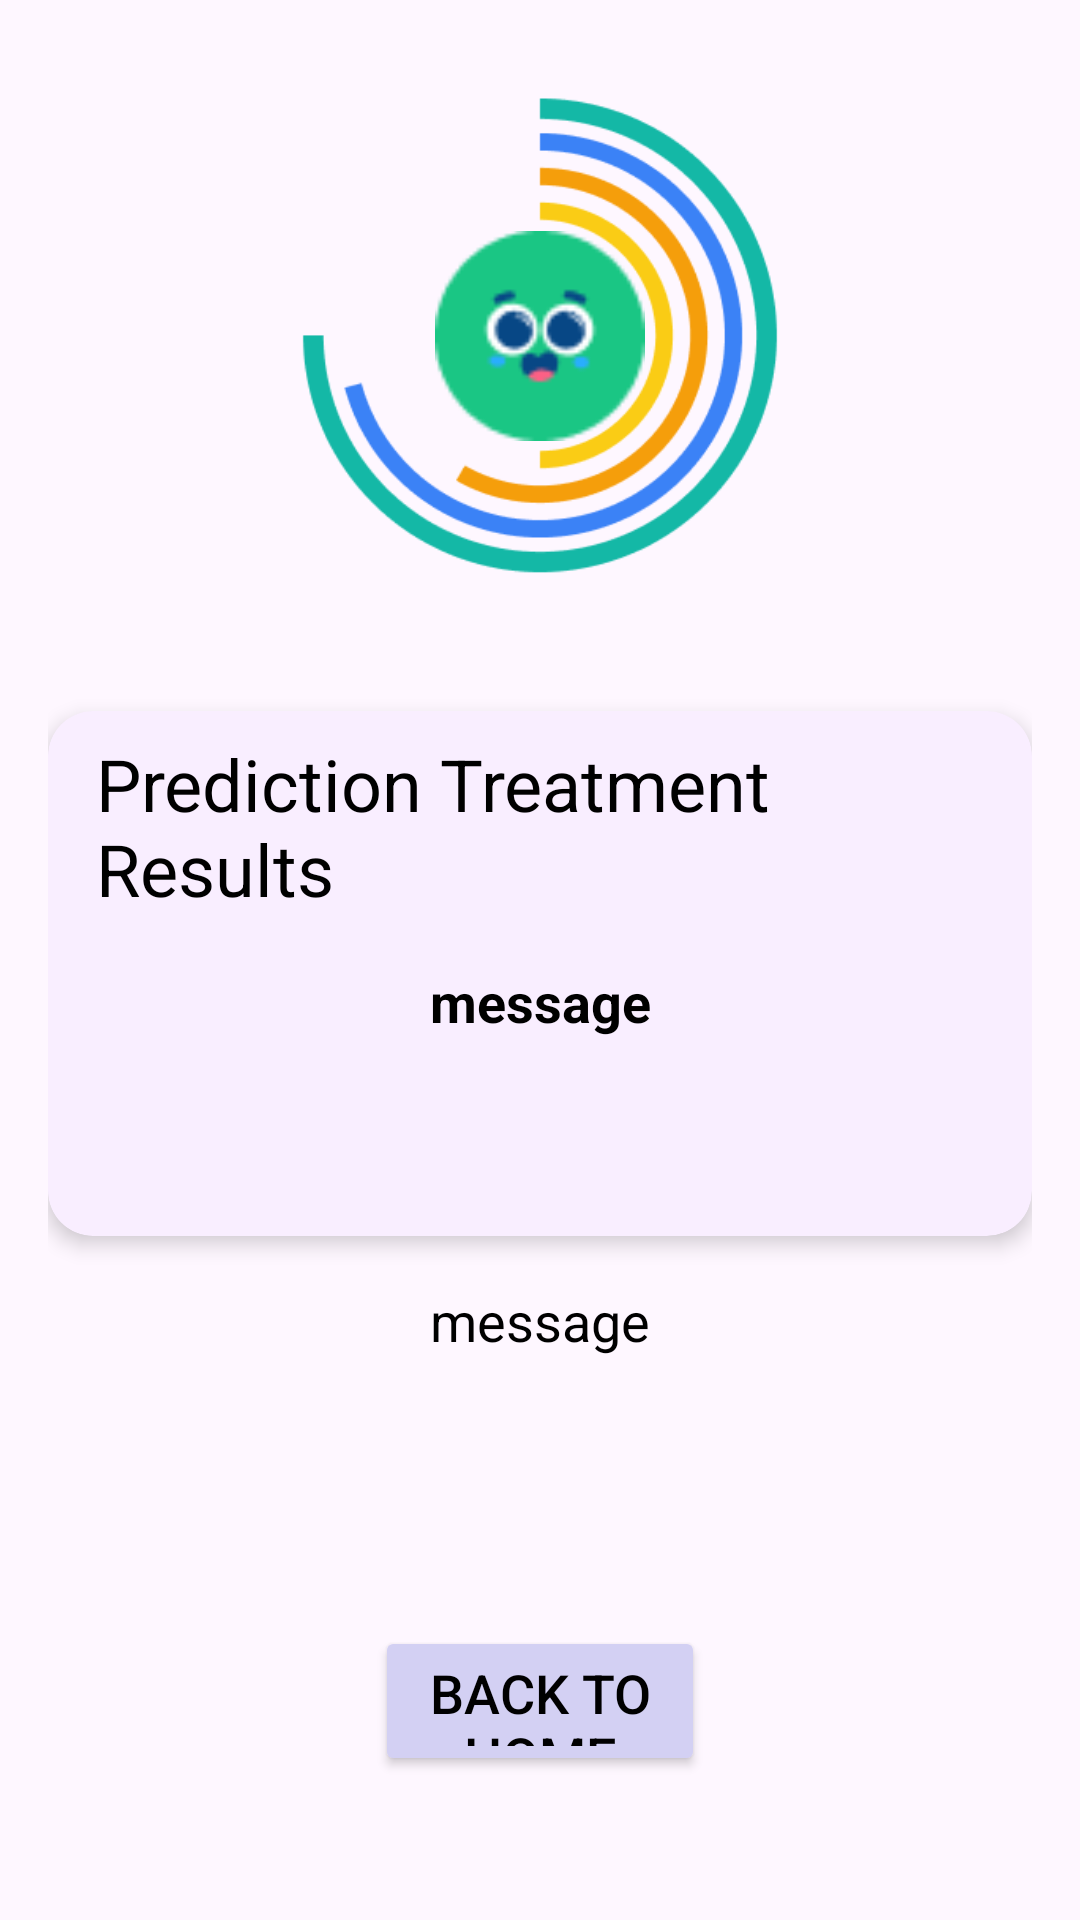

Screen size 1080px×1920px. Icon name, then its center in pixels as (x=x, y=y):
happy: (x=540, y=336)
